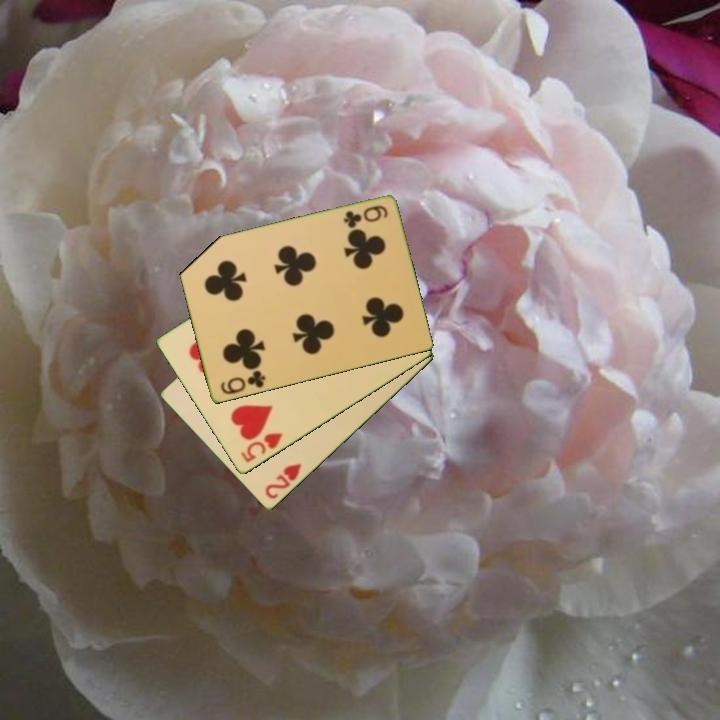2h: (261, 460, 304, 502)
5h: (237, 429, 285, 466)
6c: (217, 367, 268, 398), (339, 202, 391, 231)
